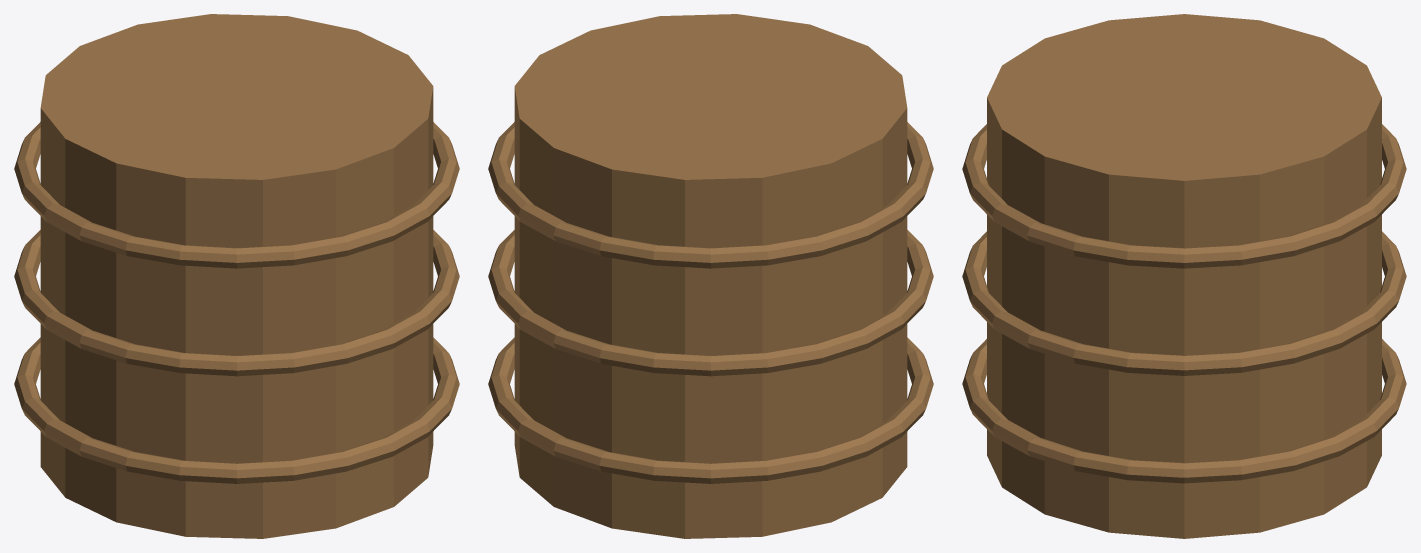
Rendered from barrel.glb.
The picture shows the model from 3 angles, left to right: view 1: azimuth 30°, elevation 25°; view 2: azimuth 150°, elevation 25°; view 3: azimuth 270°, elevation 25°; orthographic projection.
Visible parts, largest first — view 1: intact_mesh, shard_007, shard_002, shard_035, shard_028, shard_037, shard_005, shard_000, shard_029, shard_034, shard_027, shard_017 (+6 smaller); view 2: intact_mesh, shard_028, shard_037, shard_004, shard_015, shard_000, shard_020, shard_002, shard_001, shard_017, shard_035, shard_006 (+6 smaller); view 3: intact_mesh, shard_005, shard_035, shard_002, shard_001, shard_028, shard_037, shard_008, shard_000, shard_009, shard_027, shard_029 (+13 smaller).
Part boxes in pixels (x1=…): intact_mesh: x1=14, y1=14, x2=459, y2=538; shard_007: x1=96, y1=268, x2=366, y2=538; shard_002: x1=118, y1=100, x2=457, y2=284; shard_035: x1=161, y1=20, x2=416, y2=112; shard_028: x1=88, y1=71, x2=432, y2=194; shard_037: x1=40, y1=56, x2=237, y2=176; shard_005: x1=353, y1=216, x2=456, y2=521; shard_000: x1=46, y1=16, x2=307, y2=77; shard_029: x1=58, y1=339, x2=449, y2=521; shard_034: x1=66, y1=236, x2=451, y2=379; shard_027: x1=50, y1=246, x2=79, y2=504; shard_017: x1=40, y1=136, x2=144, y2=224; intact_mesh: x1=488, y1=14, x2=933, y2=538; shard_028: x1=570, y1=25, x2=906, y2=137; shard_037: x1=668, y1=94, x2=893, y2=199; shard_004: x1=603, y1=276, x2=739, y2=538; shard_015: x1=723, y1=262, x2=878, y2=425; shard_000: x1=519, y1=113, x2=782, y2=205; shard_020: x1=725, y1=408, x2=878, y2=536; shard_002: x1=620, y1=14, x2=933, y2=172; shard_001: x1=491, y1=225, x2=614, y2=528; shard_017: x1=568, y1=135, x2=906, y2=235; shard_035: x1=515, y1=48, x2=728, y2=144; shard_006: x1=503, y1=122, x2=888, y2=247; intact_mesh: x1=962, y1=14, x2=1406, y2=538; shard_005: x1=965, y1=219, x2=1110, y2=531; shard_035: x1=1150, y1=90, x2=1305, y2=207; shard_002: x1=987, y1=28, x2=1082, y2=270; shard_001: x1=1313, y1=215, x2=1406, y2=514; shard_028: x1=1082, y1=17, x2=1150, y2=204; shard_037: x1=1150, y1=14, x2=1305, y2=89; shard_008: x1=1225, y1=279, x2=1264, y2=535; shard_000: x1=1305, y1=33, x2=1381, y2=186; shard_009: x1=1082, y1=156, x2=1367, y2=236; shard_027: x1=1163, y1=283, x2=1179, y2=538; shard_029: x1=1110, y1=394, x2=1162, y2=536.
Bounding box in the file's own units: 0.9 × 0.8 × 0.9.
